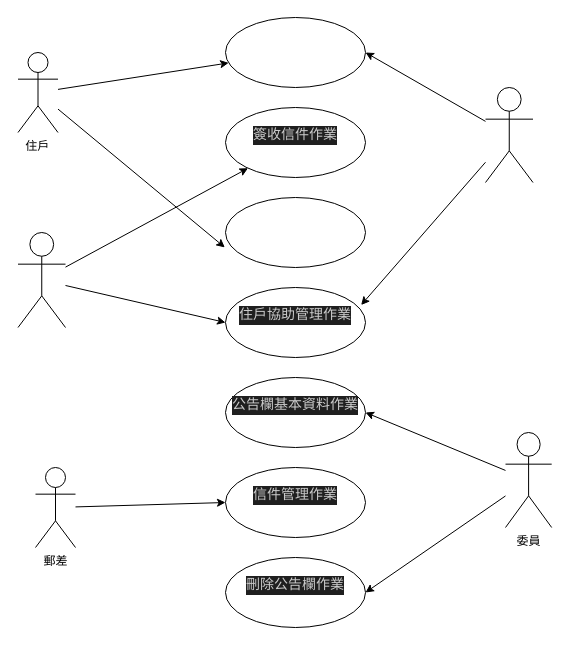
Some shapes in this 569 by 645 pixel diagram are drawn without their labels. The shapes that lost their labels are listed below. From the top down, each one's centre as x and y in pixels, then its label:
At point (295, 52): "住戶基本資料作業".
At point (508, 134): "APP開發者".
At point (295, 232): "住戶認領信件作業".
At point (41, 280): "警衛".
